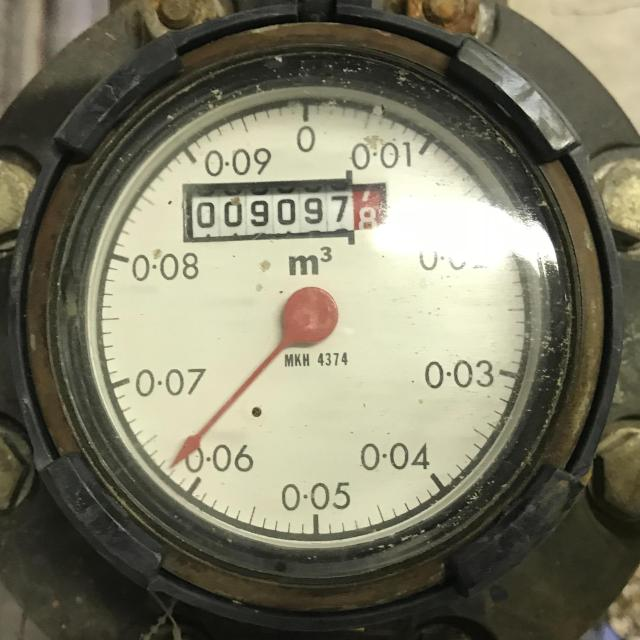gaz_meter: (86, 91, 551, 556)
indication: (186, 180, 382, 240)
